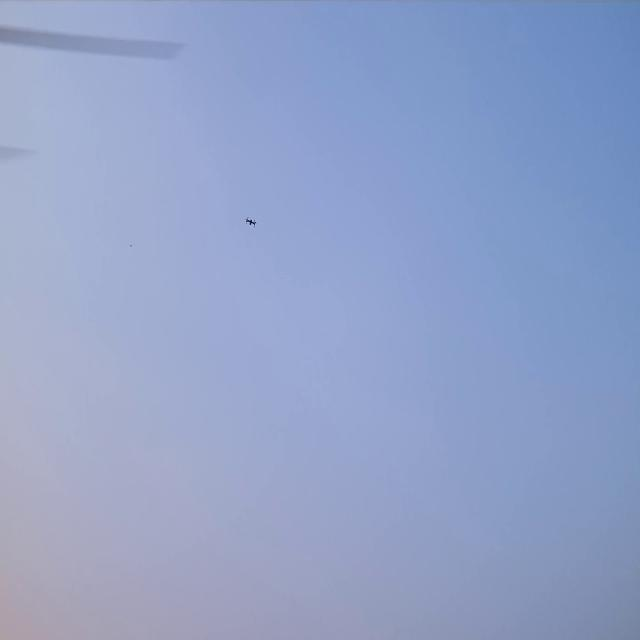UAV: (244, 211, 258, 229)
